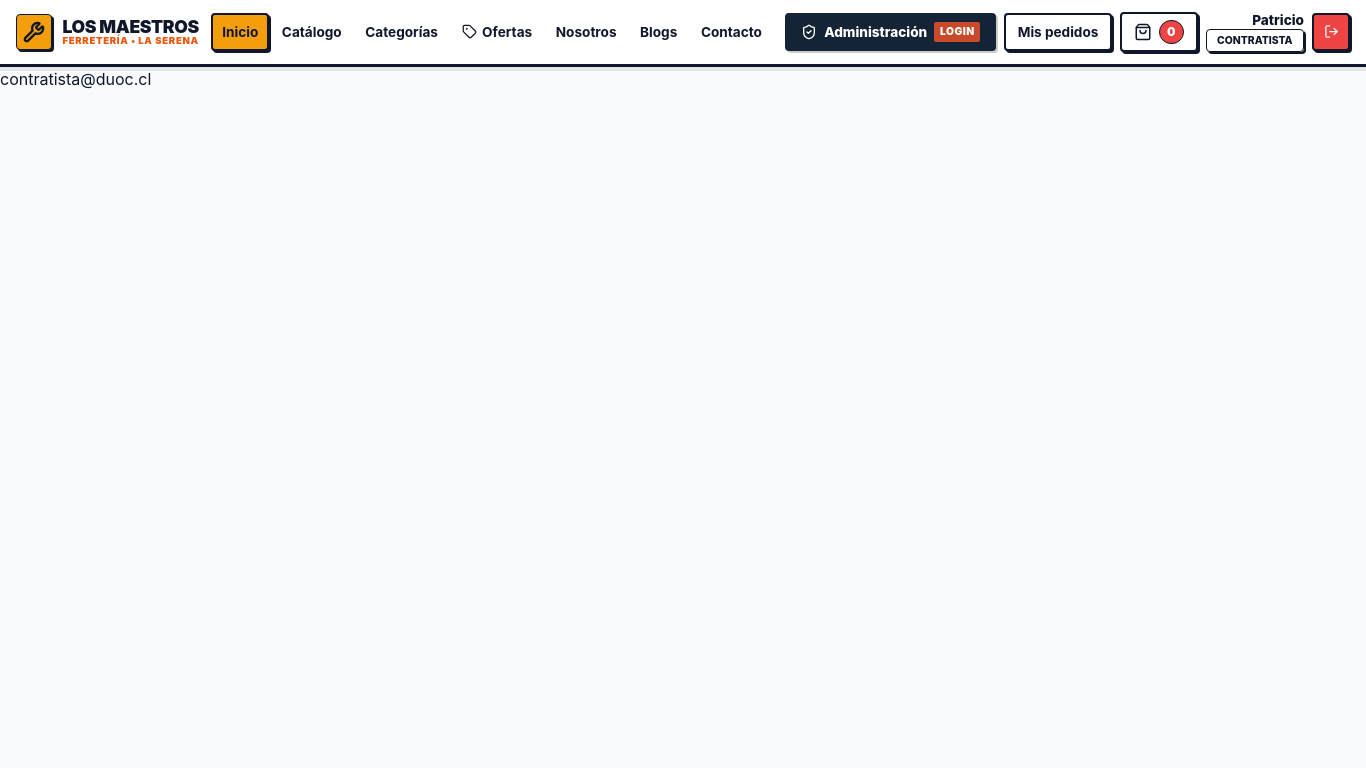
Scenario: Acceso administrativo y navegación por perfil › conserva la cuenta contratista si se rechaza otro perfil en el modal
The image size is (1366, 768).
Click the button with aria-label "Acceder a Administración".
click(891, 32)  # box [785, 13, 996, 51]
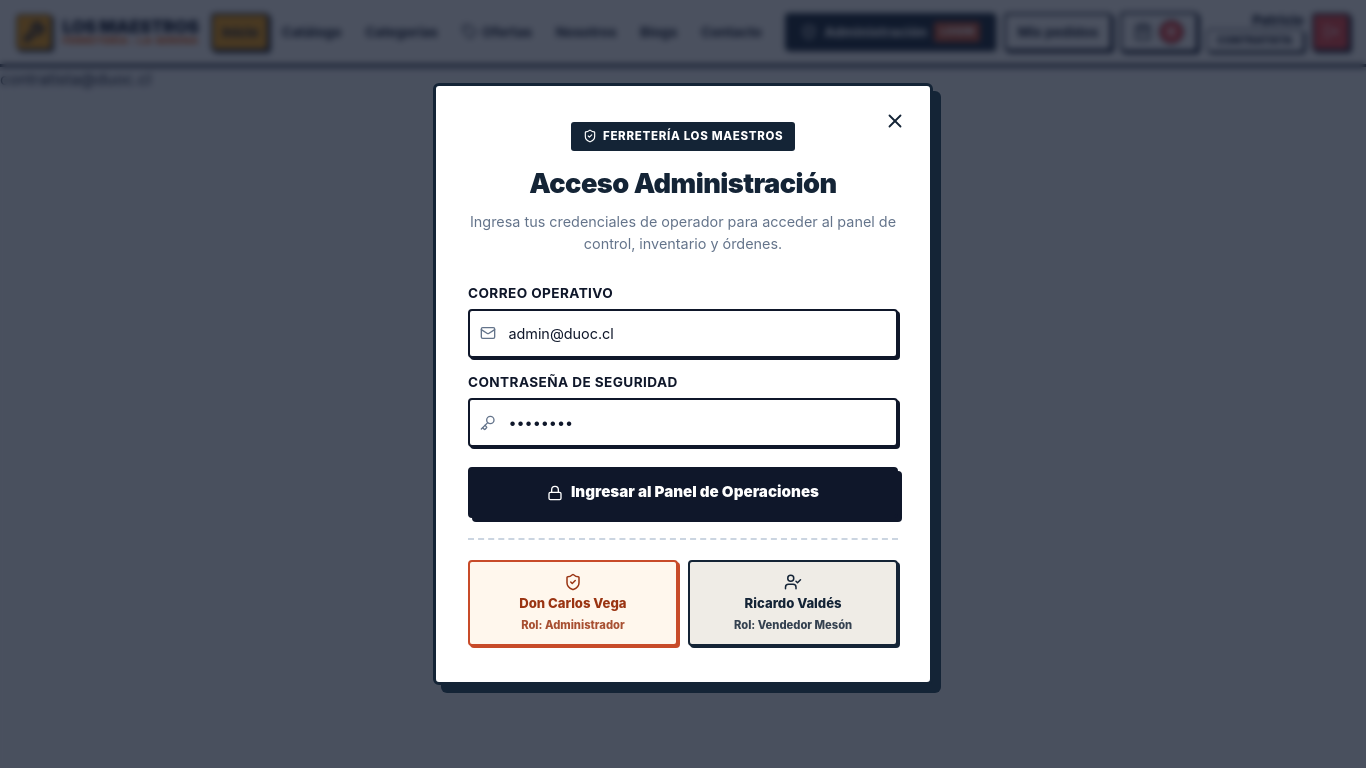
Type "cliente@gmail.com" into the field labelled "Correo Operativo".
click(683, 333); type("cliente@gmail.com")  # box [468, 309, 898, 358]
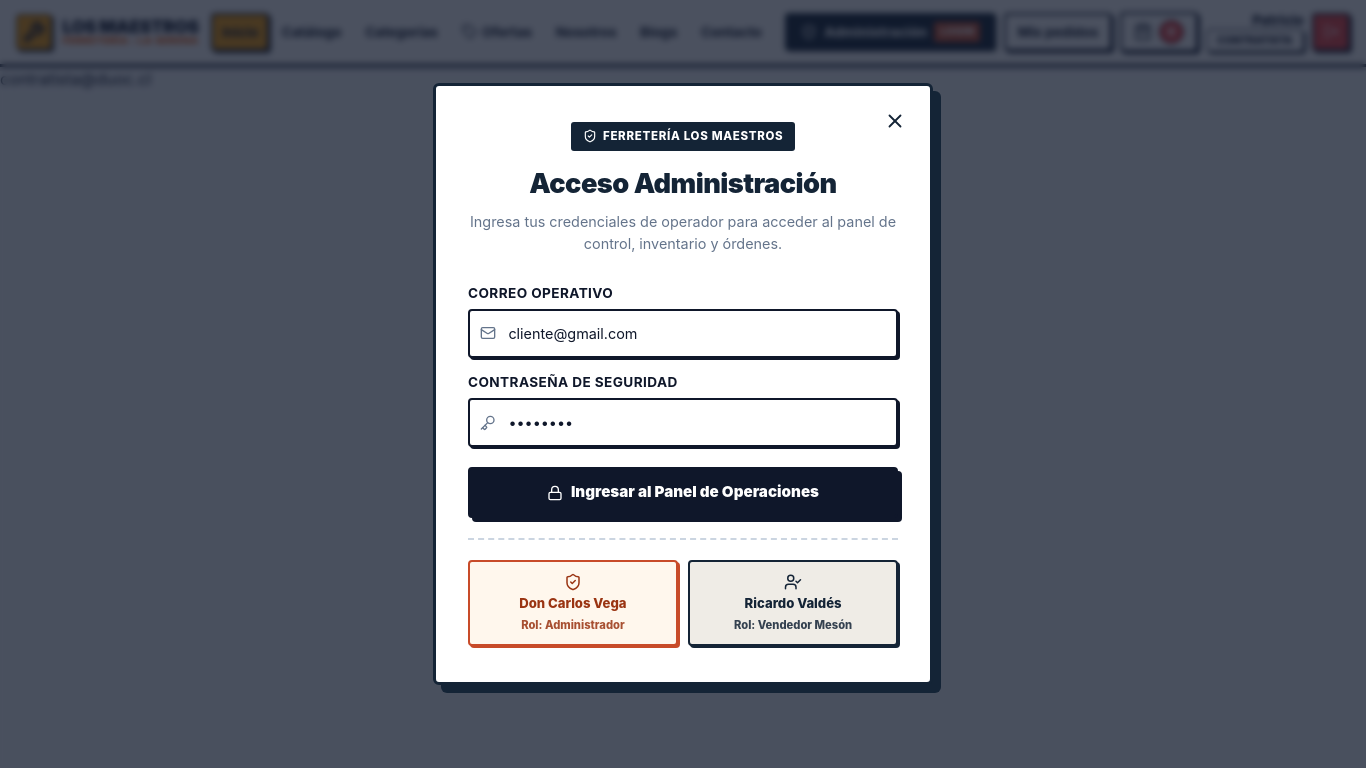
Type "clie123" into the password field labelled "Contraseña de Seguridad".
click(683, 423); type("clie123")  # box [468, 398, 898, 447]
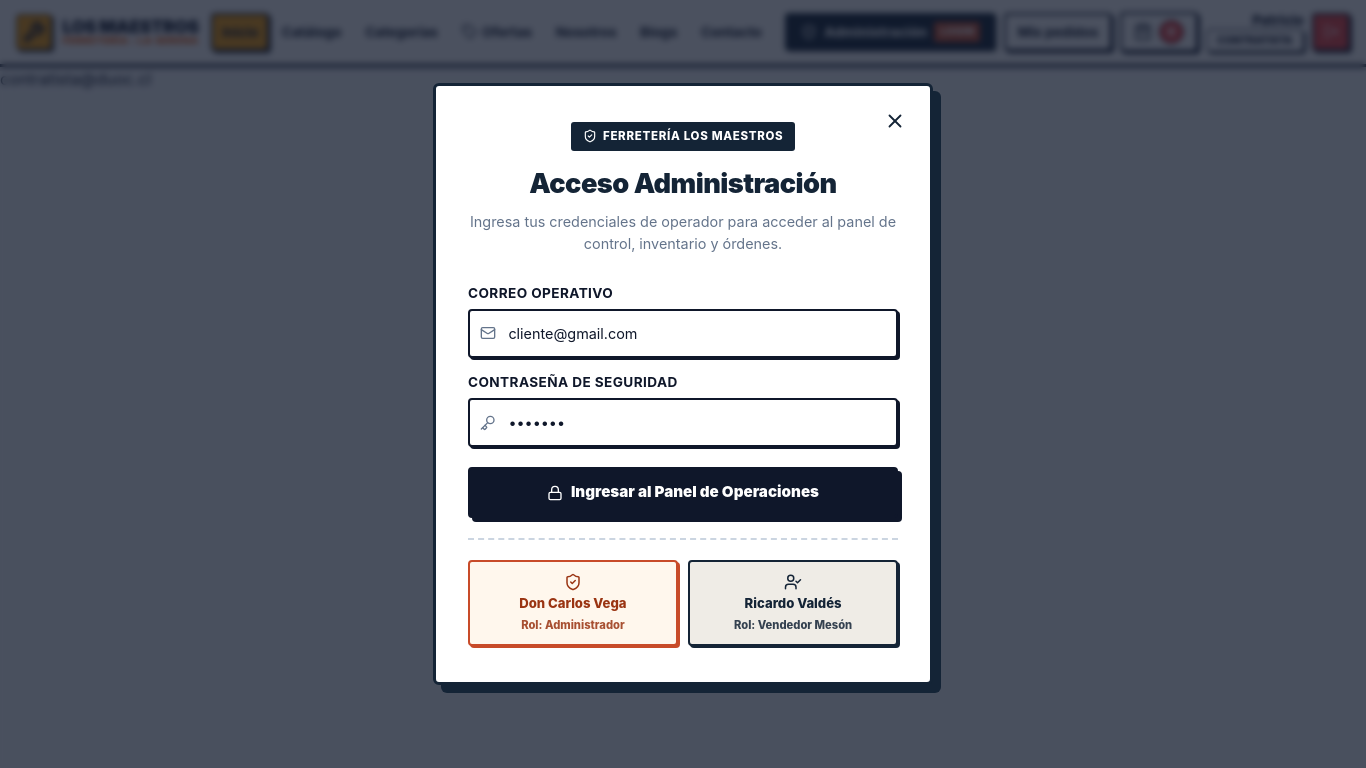
Click the button "Ingresar al Panel de Operaciones".
click(683, 493)  # box [468, 467, 898, 518]
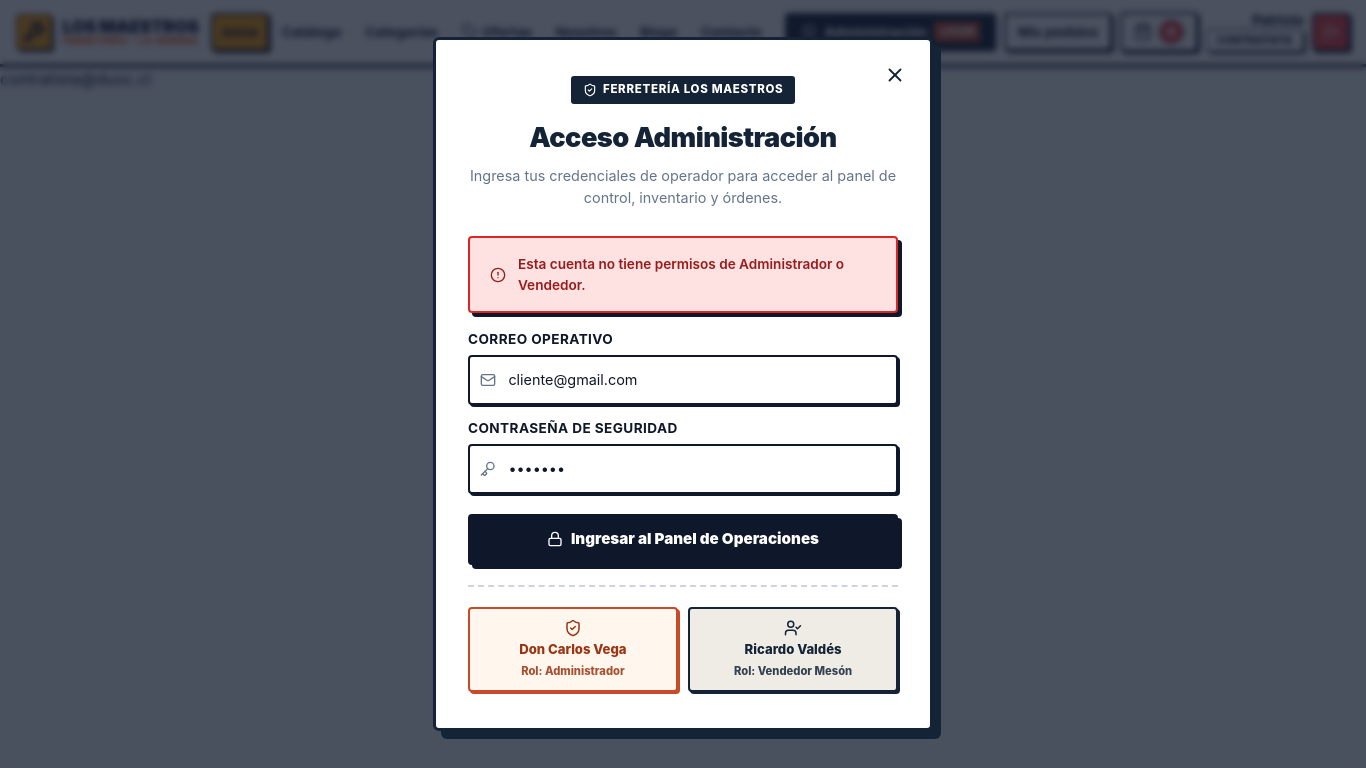
Expected: the text with test id "active-session" reads "contratista@duoc.cl", [0, 69, 151, 89]
Result: the text "Esta cuenta no tiene permisos de Administrador o Vendedor." is shown at [518, 254, 876, 295]
